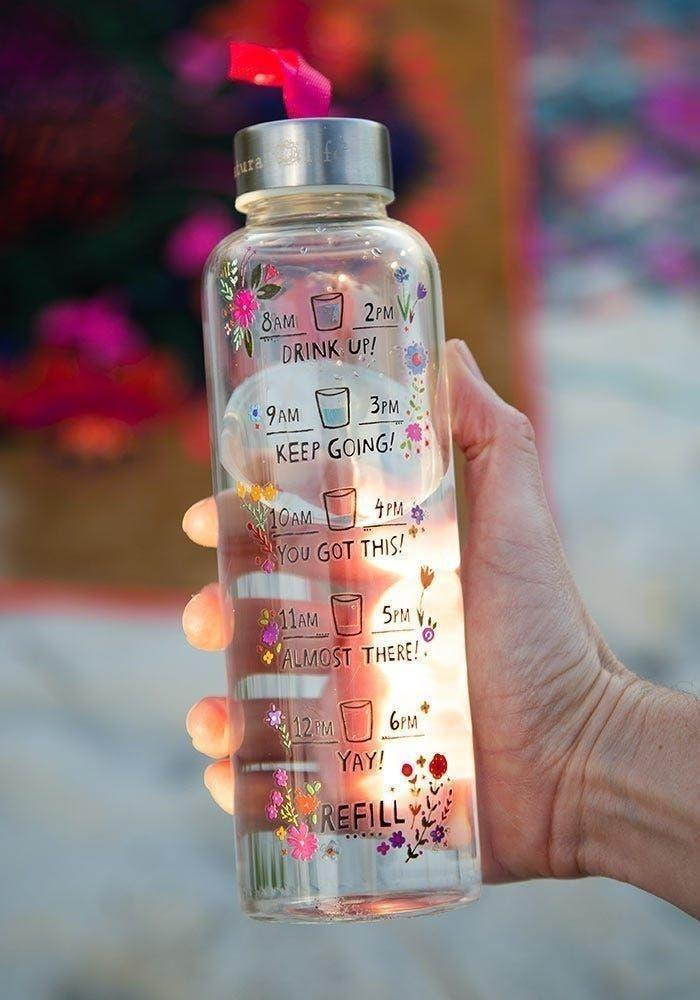gym bottle: (202, 117, 489, 919)
